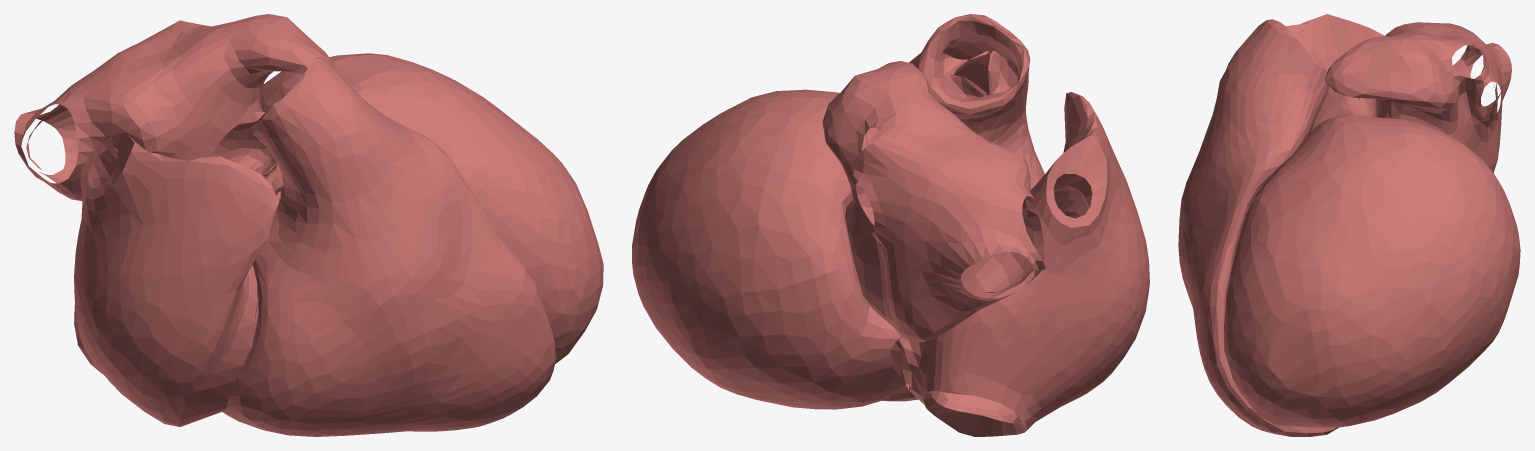
Rendered from VH_F_Heart_0.2.glb.
The picture shows the model from 3 angles, left to right: view 1: azimuth 30°, elevation 25°; view 2: azimuth 150°, elevation 25°; view 3: azimuth 270°, elevation 25°; orthographic projection. The views are drawn at different scales.
Parts seen in each view (by area): view 1: VH_F_right_ventricle, VH_F_right_cardiac_atrium, VH_F_left_ventricle, VH_F_left_cardiac_atrium, VH_F_aortic_valve; view 2: VH_F_left_ventricle, VH_F_right_cardiac_atrium, VH_F_left_cardiac_atrium, VH_F_right_ventricle, VH_F_pulmonary_valve; view 3: VH_F_left_ventricle, VH_F_right_ventricle, VH_F_left_cardiac_atrium, VH_F_right_cardiac_atrium, VH_F_aortic_valve.
Boxes of the visible parts, bbox=[...] form: VH_F_right_ventricle: bbox=[222, 57, 556, 436]; VH_F_right_cardiac_atrium: bbox=[74, 132, 279, 426]; VH_F_left_ventricle: bbox=[260, 53, 603, 363]; VH_F_left_cardiac_atrium: bbox=[14, 14, 334, 201]; VH_F_aortic_valve: bbox=[211, 111, 282, 201]; VH_F_left_ventricle: bbox=[632, 89, 905, 409]; VH_F_right_cardiac_atrium: bbox=[890, 92, 1149, 436]; VH_F_left_cardiac_atrium: bbox=[822, 61, 1045, 341]; VH_F_right_ventricle: bbox=[881, 14, 1044, 401]; VH_F_pulmonary_valve: bbox=[939, 51, 1018, 98]; VH_F_left_ventricle: bbox=[1224, 115, 1520, 427]; VH_F_right_ventricle: bbox=[1178, 19, 1339, 436]; VH_F_left_cardiac_atrium: bbox=[1324, 22, 1511, 172]; VH_F_right_cardiac_atrium: bbox=[1217, 14, 1384, 101]; VH_F_aortic_valve: bbox=[1311, 87, 1376, 132].
Bounding box in the file's own units: 0.1427 × 0.1102 × 0.1015.
